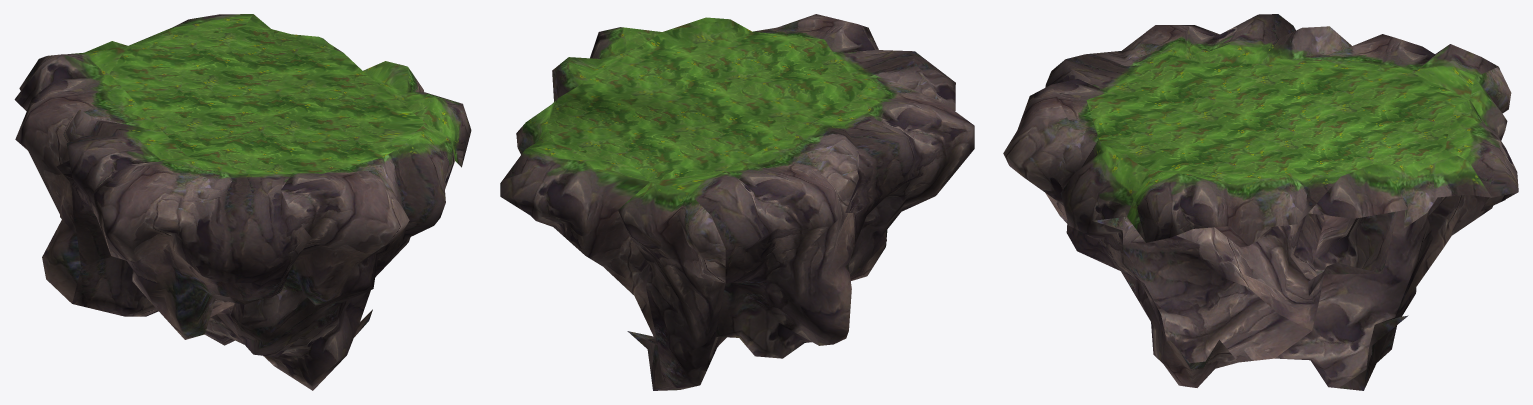
The model's file is Stage_ZhuCheng_ShanTi08.FBX.
3 renders of one model, left to right at view 1: azimuth 30°, elevation 25°; view 2: azimuth 150°, elevation 25°; view 3: azimuth 270°, elevation 25°, orthographic. The views are drawn at different scales.
Visible parts, largest first — view 1: Stage_ZhuCheng_ShanTi08; view 2: Stage_ZhuCheng_ShanTi08; view 3: Stage_ZhuCheng_ShanTi08.
Part boxes in pixels (x1,y1,x2,y2): Stage_ZhuCheng_ShanTi08: (14, 14, 471, 390); Stage_ZhuCheng_ShanTi08: (500, 14, 974, 390); Stage_ZhuCheng_ShanTi08: (1003, 14, 1518, 390).
Bounding box in the file's own units: 2087 × 1513 × 2445.
